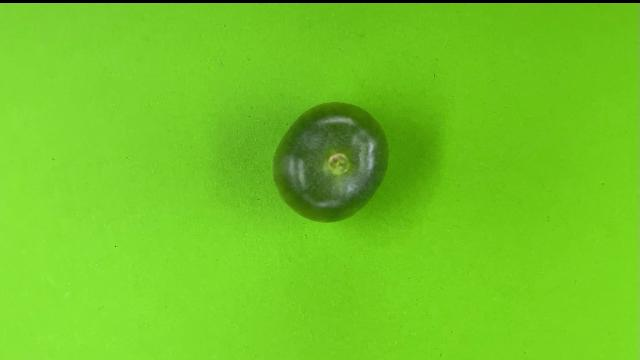Fruit Maturation: (271, 99, 394, 226)
